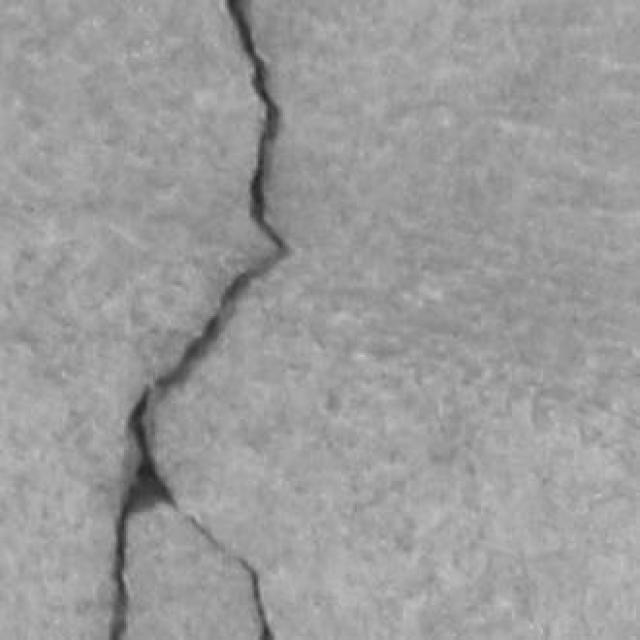crack: (109, 0, 288, 639)
